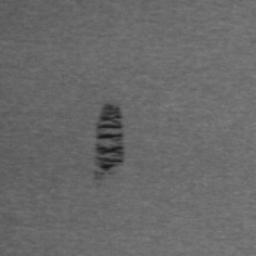Secondary rust skin: (94, 102, 126, 172)
